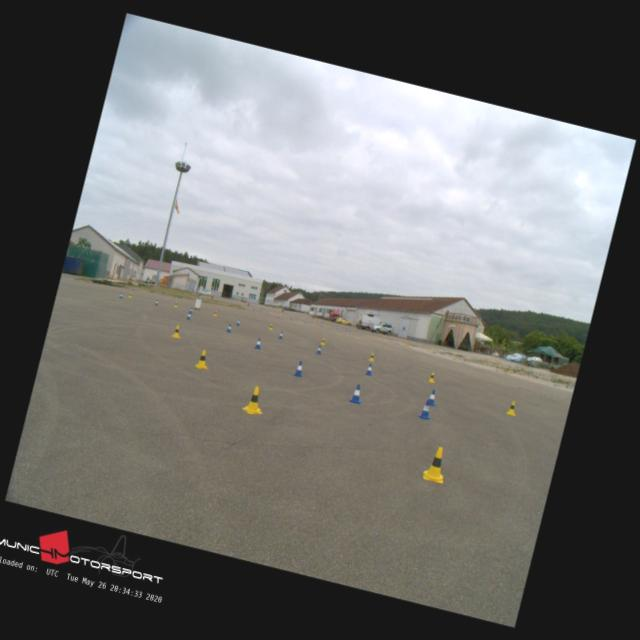blue_cone: (417, 398, 434, 420), (348, 382, 364, 404), (426, 388, 438, 406), (293, 360, 305, 377), (364, 362, 374, 374), (253, 338, 262, 348), (315, 344, 322, 354), (225, 322, 232, 332), (277, 331, 283, 339), (185, 312, 191, 320), (188, 306, 193, 314), (236, 318, 240, 326), (154, 300, 158, 306)
yellow_cone: (422, 443, 451, 482), (240, 384, 268, 416), (194, 348, 211, 368), (506, 400, 518, 416), (171, 323, 182, 338), (428, 371, 436, 382), (368, 352, 375, 362), (320, 337, 326, 345), (268, 324, 274, 331), (212, 310, 218, 316), (173, 301, 178, 307)
